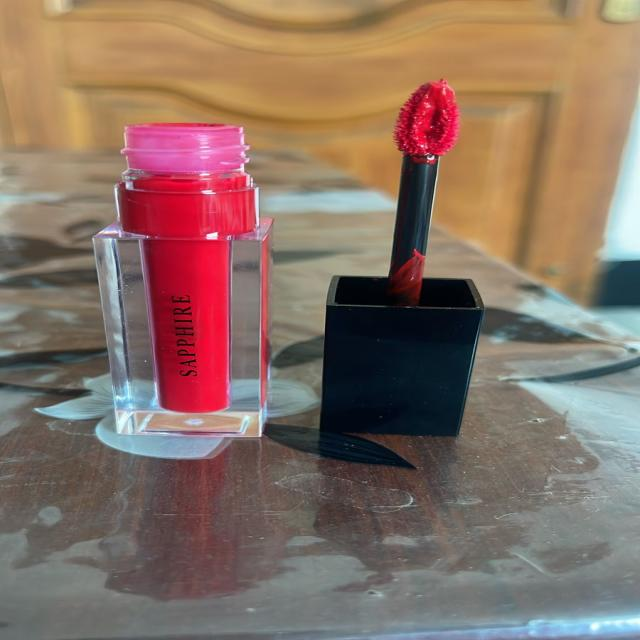brush: (304, 82, 502, 436)
lip gloss: (91, 79, 301, 443)
lotion: (15, 462, 96, 462)
